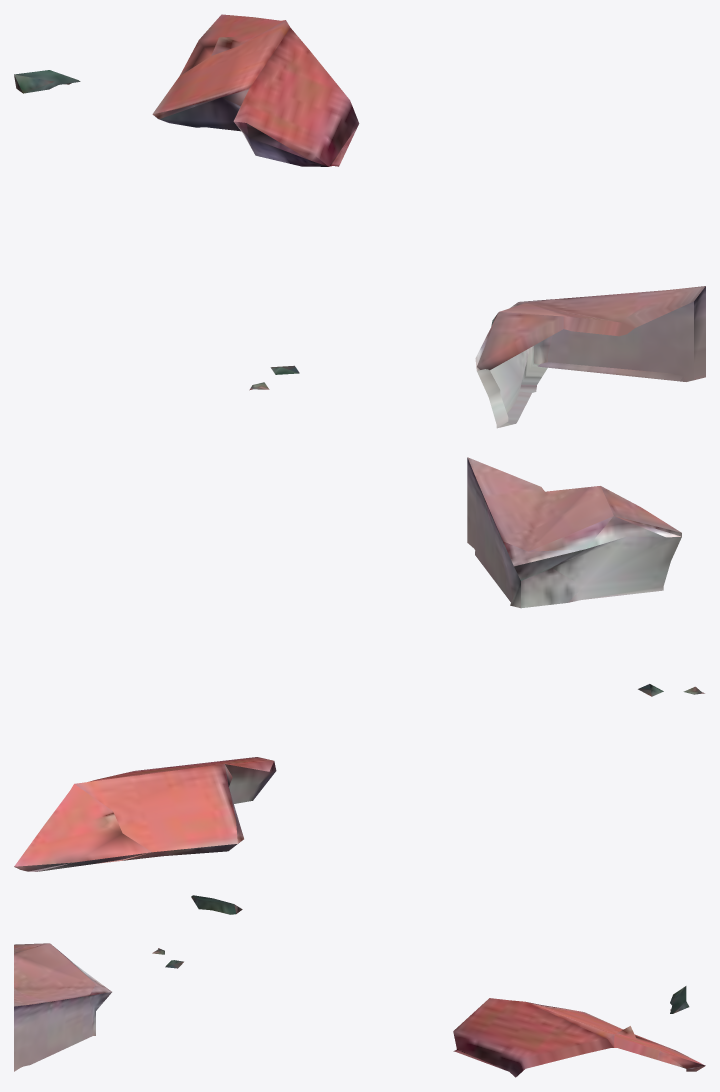
3 views of the same model, one above another, from view 1: azimuth 30°, elevation 25°; view 2: azimuth 150°, elevation 25°; view 3: azimuth 270°, elevation 25° (orthographic). The views are drawn at different scales.
Visible parts, largest first — view 1: 30436272704370624706_0; view 2: 30436272704370624706_0; view 3: 30436272704370624706_0.
Part boxes in pixels (left/top/right/bottom): 30436272704370624706_0: left=14, top=14, right=705, bottom=428; 30436272704370624706_0: left=14, top=457, right=704, bottom=914; 30436272704370624706_0: left=14, top=943, right=705, bottom=1077.
Bounding box in the file's own units: 13.81 × 3.85 × 32.55.
Materials: 1 (1 with a texture image).
